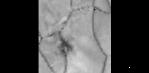good_void: (53, 31, 73, 57)
